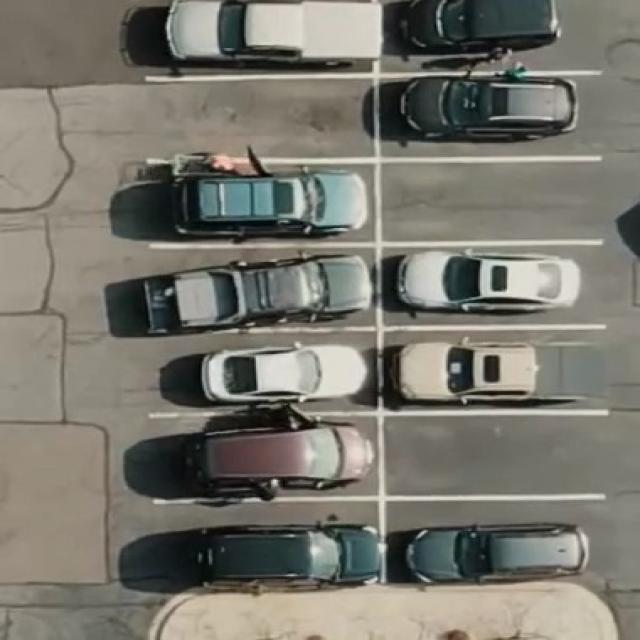space-empty: (138, 71, 376, 160), (379, 411, 608, 501), (378, 156, 602, 248)
space-occupied: (125, 497, 384, 593), (125, 240, 377, 336), (138, 412, 382, 500), (134, 329, 382, 414), (379, 323, 608, 412), (377, 68, 598, 160), (135, 159, 377, 242), (379, 239, 605, 327), (384, 496, 606, 584), (136, 0, 380, 76), (379, 0, 573, 71)
